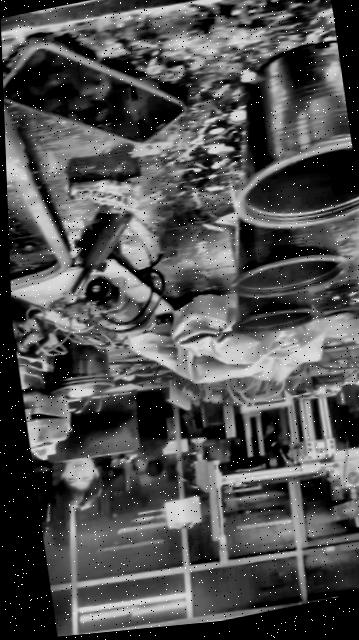pot: (236, 43, 359, 227), (232, 219, 346, 297), (36, 328, 117, 396), (232, 291, 315, 333)
